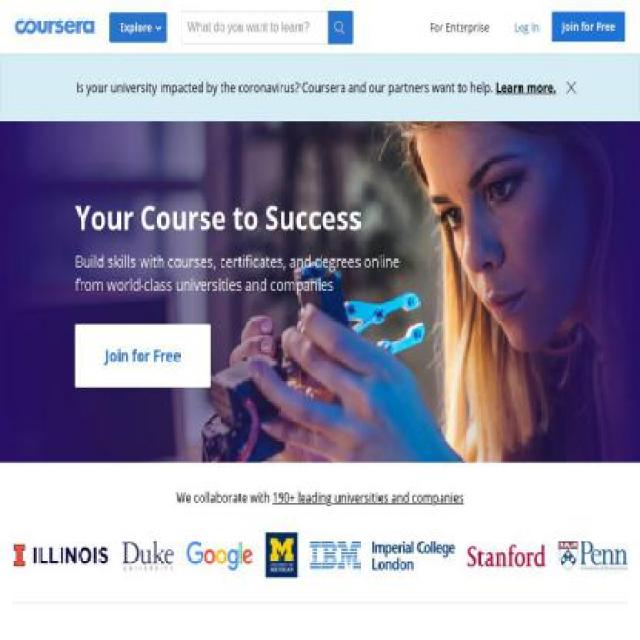button: (75, 324, 211, 388), (176, 488, 464, 508), (12, 542, 110, 569), (372, 540, 456, 571), (558, 539, 628, 572), (185, 539, 253, 572), (552, 12, 626, 42), (109, 12, 168, 43), (468, 544, 546, 567), (121, 539, 174, 572), (430, 16, 502, 38), (264, 532, 298, 578), (310, 542, 361, 569), (502, 16, 552, 38), (560, 73, 583, 102)
field: (181, 10, 328, 44)
